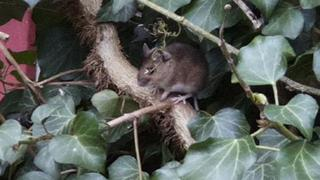mouse: (137, 42, 210, 111)
